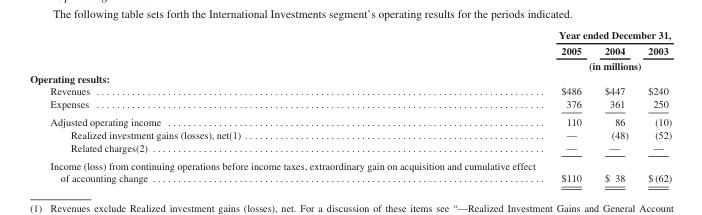table: (29, 28, 671, 183)
table column: (29, 28, 546, 183), (546, 28, 592, 183), (592, 28, 637, 183), (637, 28, 671, 183)
table column header: (29, 28, 671, 71)
table projected row header: (29, 71, 671, 84)
table row: (29, 156, 671, 183), (29, 140, 671, 156), (29, 42, 671, 57), (29, 97, 671, 112), (29, 112, 671, 127), (29, 28, 671, 42), (29, 57, 671, 71), (29, 71, 671, 84), (29, 84, 671, 97), (29, 127, 671, 140)
table spanning cell: (546, 28, 671, 42), (546, 57, 671, 71)
